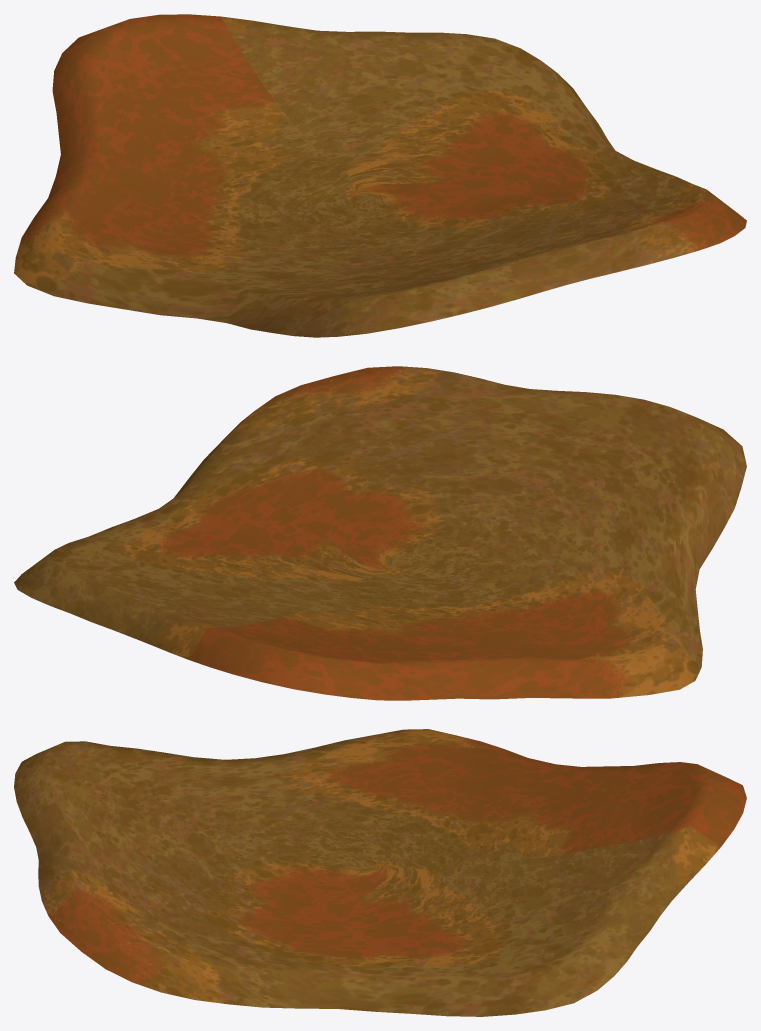
Rendered from Small Rust Puddle.fbx.
3 views of the same model, one above another, from view 1: azimuth 30°, elevation 25°; view 2: azimuth 150°, elevation 25°; view 3: azimuth 270°, elevation 25° (orthographic). The views are drawn at different scales.
Visible parts, largest first — view 1: Small; view 2: Small; view 3: Small.
Boxes of the visible parts, x1=… form: Small: x1=14, y1=14, x2=746, y2=337; Small: x1=14, y1=366, x2=746, y2=700; Small: x1=14, y1=729, x2=746, y2=1016.
Size of the model in its own units: 17.23 by 2.36 by 18.92.
1 material, 1 textured.
